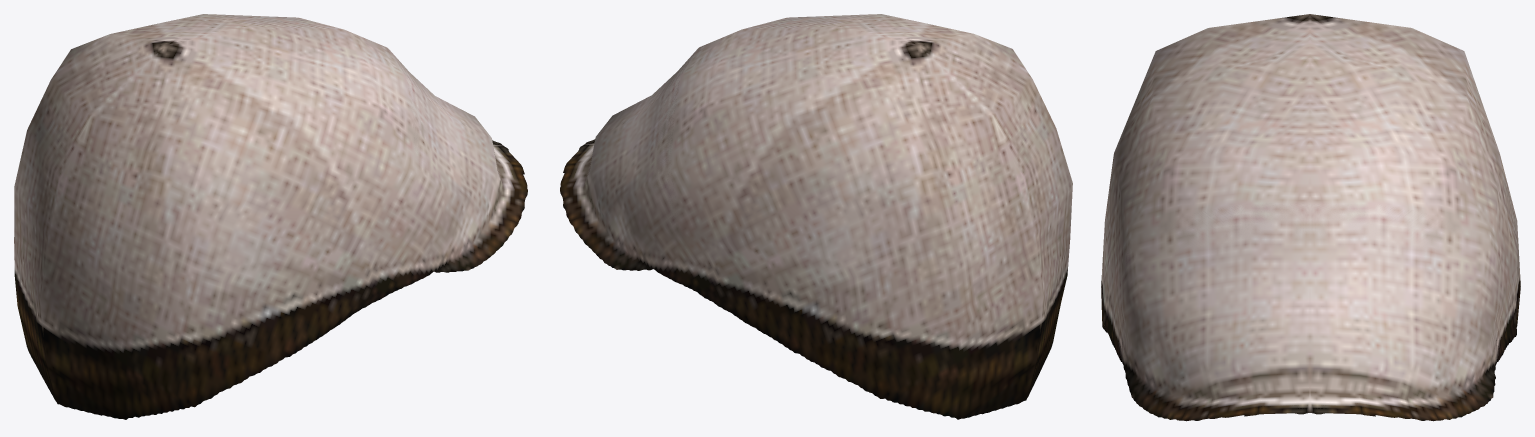
File: hat_0450030.FBX
3 renders of one model, left to right at view 1: azimuth 30°, elevation 25°; view 2: azimuth 150°, elevation 25°; view 3: azimuth 270°, elevation 25°, orthographic. The views are drawn at different scales.
Visible parts, largest first — view 1: hat_0450030; view 2: hat_0450030; view 3: hat_0450030.
Boxes of the visible parts, x1=… form: hat_0450030: x1=14, y1=14, x2=527, y2=419; hat_0450030: x1=560, y1=14, x2=1072, y2=419; hat_0450030: x1=1101, y1=14, x2=1520, y2=421.
Size of the model in its own units: 29.09 by 20.18 by 19.8.
